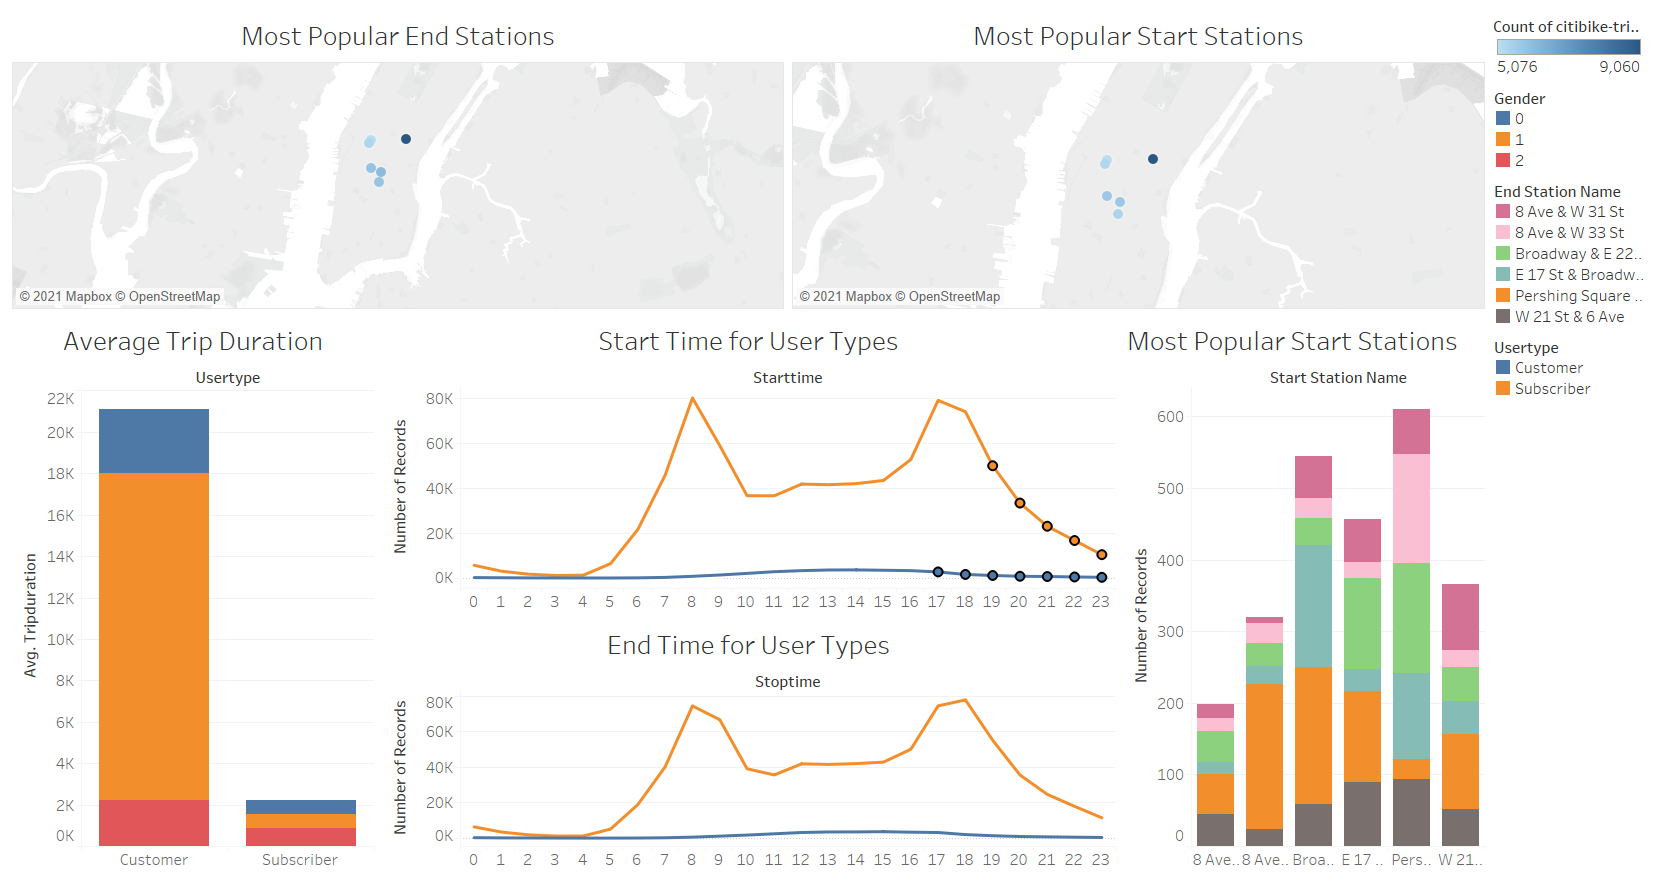

The dashboard page shown, as its layout file describes it:
{"tool":"tableau","page":{"name":"Citibike Dashboard","canvas":[1000,1000],"units":"permille","ordinal":0},"visuals":[{"type":"worksheet","box":[0,0,1000,1000]},{"type":"worksheet","param":"horz","box":[4.8,9.1,990.3,981.9]},{"type":"worksheet","box":[4.8,9.1,893.8,981.9]},{"type":"worksheet","title":"EndStations","mark":"Automatic","rows":["end station latitude"],"cols":["end station longitude"],"box":[4.8,9.1,470.7,345.4]},{"type":"worksheet","title":"StartStations","mark":"Automatic","rows":["start station latitude"],"cols":["start station longitude"],"box":[475.6,9.1,423.1,345.4]},{"type":"worksheet","param":"vert","box":[898.6,9.1,96.6,981.9]},{"type":"worksheet","title":"EndStations","mark":"Automatic","rows":["end station latitude"],"cols":["end station longitude"],"param":"[federated.0g3a94k1gk1y1817tnf0u0ibpbp2].[__tableau_internal_object_id__].[cnt:c","box":[898.6,9.1,96.6,82.7]},{"type":"worksheet","title":"TripDuration","mark":"Automatic","rows":["tripduration"],"cols":["usertype"],"param":"[federated.0g3a94k1gk1y1817tnf0u0ibpbp2].[none:gender:ok]","box":[898.6,91.7,96.6,105.3]},{"type":"worksheet","title":"StartPopular","mark":"Automatic","rows":["citibike-tripdata.csv_FE65DFE25B11461E935A0A594CA06070"],"cols":["start station name"],"param":"[federated.0g3a94k1gk1y1817tnf0u0ibpbp2].[none:end station name:nk]","box":[898.6,197.1,96.6,176.7]},{"type":"worksheet","title":"TripDuration","mark":"Automatic","rows":["tripduration"],"cols":["usertype"],"box":[4.8,354.5,223.5,636.5]},{"type":"worksheet","title":"StartTime","mark":"Automatic","rows":["citibike-tripdata.csv_FE65DFE25B11461E935A0A594CA06070"],"cols":["starttime"],"box":[228.3,354.5,446.9,344.3]},{"type":"worksheet","title":"StartPopular","mark":"Automatic","rows":["citibike-tripdata.csv_FE65DFE25B11461E935A0A594CA06070"],"cols":["start station name"],"box":[675.2,354.5,223.4,636.5]},{"type":"worksheet","title":"StartTime","mark":"Automatic","rows":["citibike-tripdata.csv_FE65DFE25B11461E935A0A594CA06070"],"cols":["starttime"],"param":"[federated.0g3a94k1gk1y1817tnf0u0ibpbp2].[none:usertype:nk]","box":[898.6,373.7,96.6,81.5]},{"type":"worksheet","title":"EndTime","mark":"Automatic","rows":["citibike-tripdata.csv_FE65DFE25B11461E935A0A594CA06070"],"cols":["stoptime"],"box":[228.3,698.8,446.9,292.2]}]}

Visuals, with their boxes on the dashboard's canvas, which has no fixed pixel size, in thousandths of its width and height (x1, y1, x2, y2). These are canvas units, not pixel positions in the 1657x883 screenshot, which may show the page scaled, cropped or inside an application window:
worksheet: rect(0, 0, 1000, 1000)
worksheet: rect(5, 9, 995, 991)
worksheet: rect(5, 9, 899, 991)
"EndStations" worksheet: rect(5, 9, 476, 354)
"StartStations" worksheet: rect(476, 9, 899, 354)
worksheet: rect(899, 9, 995, 991)
"EndStations" worksheet: rect(899, 9, 995, 92)
"TripDuration" worksheet: rect(899, 92, 995, 197)
"StartPopular" worksheet: rect(899, 197, 995, 374)
"TripDuration" worksheet: rect(5, 354, 228, 991)
"StartTime" worksheet: rect(228, 354, 675, 699)
"StartPopular" worksheet: rect(675, 354, 899, 991)
"StartTime" worksheet: rect(899, 374, 995, 455)
"EndTime" worksheet: rect(228, 699, 675, 991)
